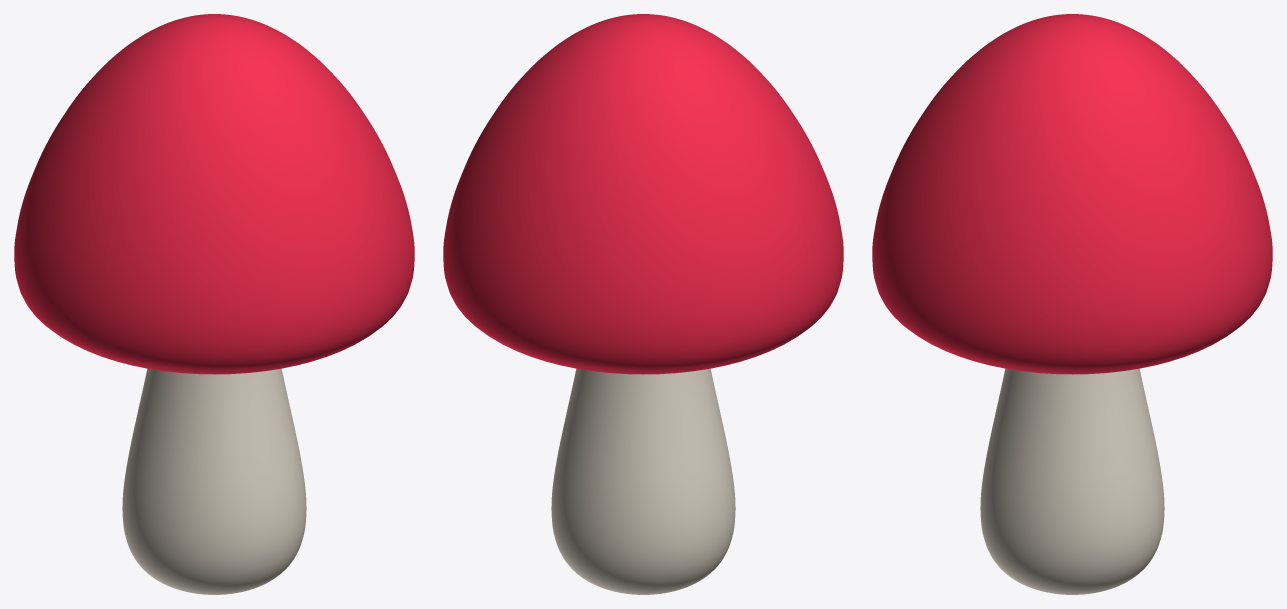
The model's file is flugsvamp.gltf.
3 views of the same model, side by side, from view 1: azimuth 30°, elevation 25°; view 2: azimuth 150°, elevation 25°; view 3: azimuth 270°, elevation 25° (orthographic).
Bounding box in the file's own units: 0.0729 × 0.1115 × 0.0729.
